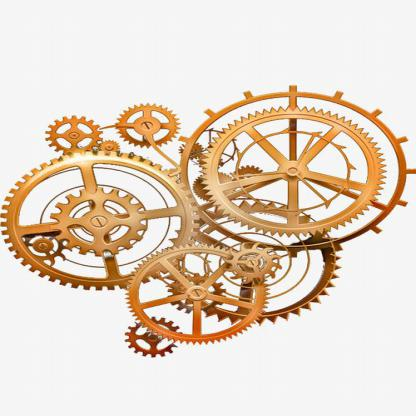FOD: (0, 145, 202, 296), (204, 103, 388, 240), (119, 313, 184, 359)
